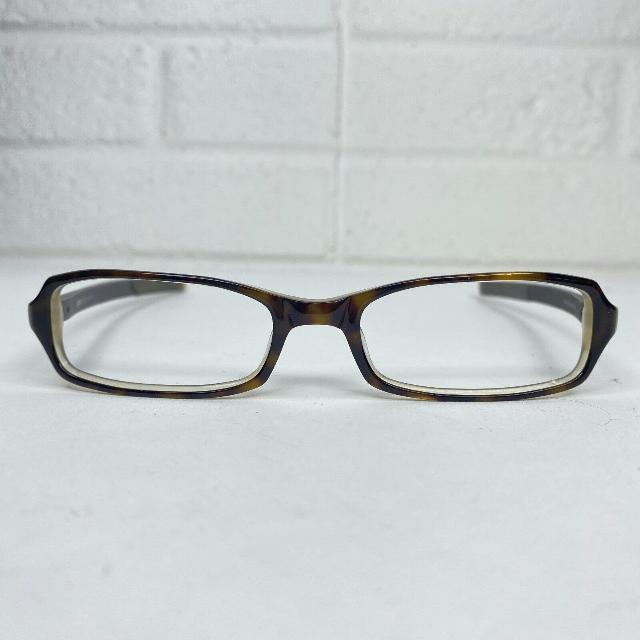mask: (22, 264, 620, 401)
